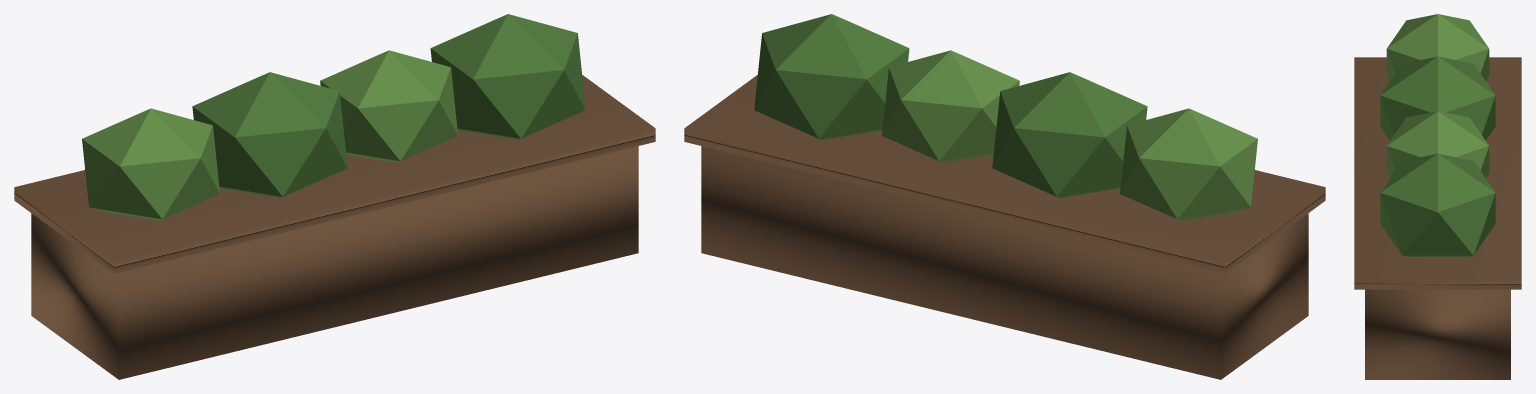
Rendered from street_shrub_planter.glb.
3 renders of one model, left to right at view 1: azimuth 30°, elevation 25°; view 2: azimuth 150°, elevation 25°; view 3: azimuth 270°, elevation 25°, orthographic. The views are drawn at different scales.
Parts seen in each view (by area): view 1: street_shrub_planter; view 2: street_shrub_planter; view 3: street_shrub_planter.
Part boxes in pixels (left/top/right/bottom): street_shrub_planter: left=14, top=14, right=655, bottom=379; street_shrub_planter: left=684, top=14, right=1325, bottom=379; street_shrub_planter: left=1354, top=14, right=1521, bottom=379.
Bounding box in the file's own units: 2.5 × 1.01 × 0.8.
